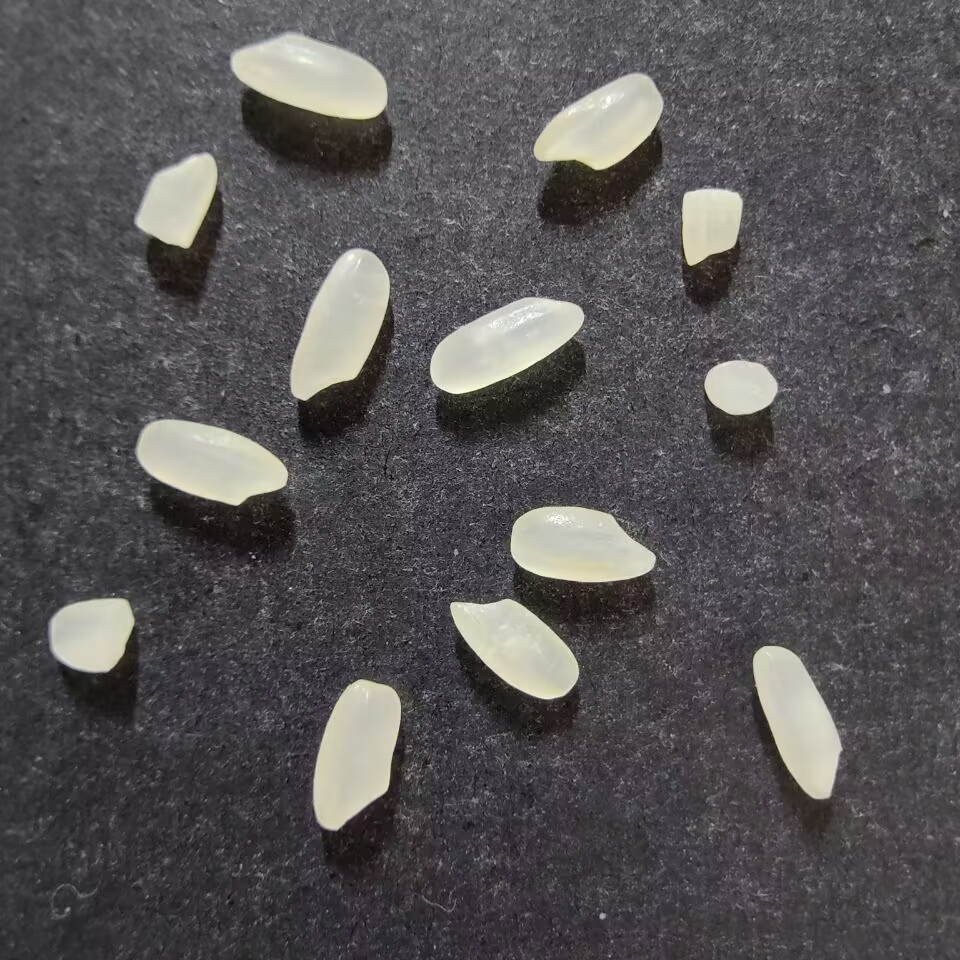broken: (133, 152, 218, 249), (48, 598, 134, 673), (681, 188, 742, 266), (703, 359, 777, 415)
rice: (289, 249, 390, 402), (428, 296, 584, 395), (751, 644, 842, 800), (311, 678, 401, 831), (134, 418, 288, 507), (230, 34, 388, 120), (449, 597, 580, 700), (533, 72, 663, 170), (508, 506, 656, 583)
